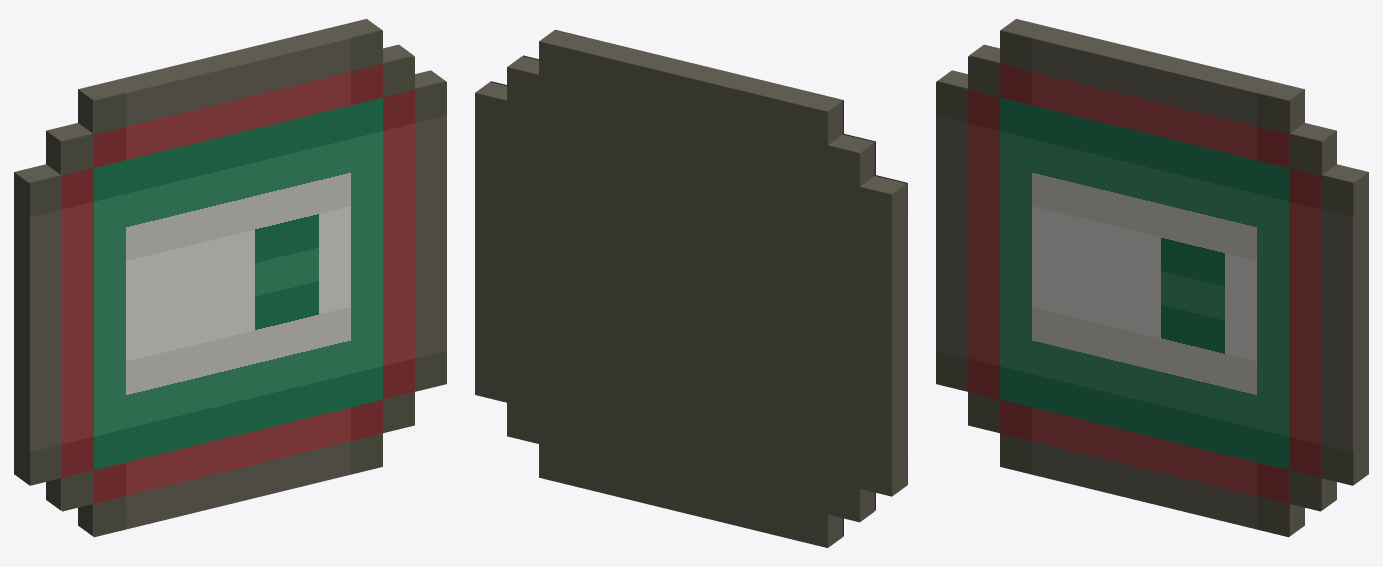
Rendered from CMU3DSemioticCoffee.glb.
The picture shows the model from 3 angles, left to right: view 1: azimuth 30°, elevation 25°; view 2: azimuth 150°, elevation 25°; view 3: azimuth 330°, elevation 25°; orthographic projection.
Visible parts, largest first — view 1: original printed face, clipped metal plate backing (×3); view 2: clipped metal plate backing (×5), original printed face; view 3: original printed face, clipped metal plate backing (×3).
Part boxes in pixels (box(x1,y1,x2,y2)): original printed face: box(28, 29, 446, 537); clipped metal plate backing (×3): box(14, 19, 445, 484); clipped metal plate backing (×5): box(475, 30, 906, 547); original printed face: box(490, 29, 907, 536); original printed face: box(936, 29, 1354, 537); clipped metal plate backing (×3): box(937, 19, 1368, 484).
Bounding box in the file's own units: 0.4062 × 0.4062 × 0.027.
2 materials, 1 textured.
